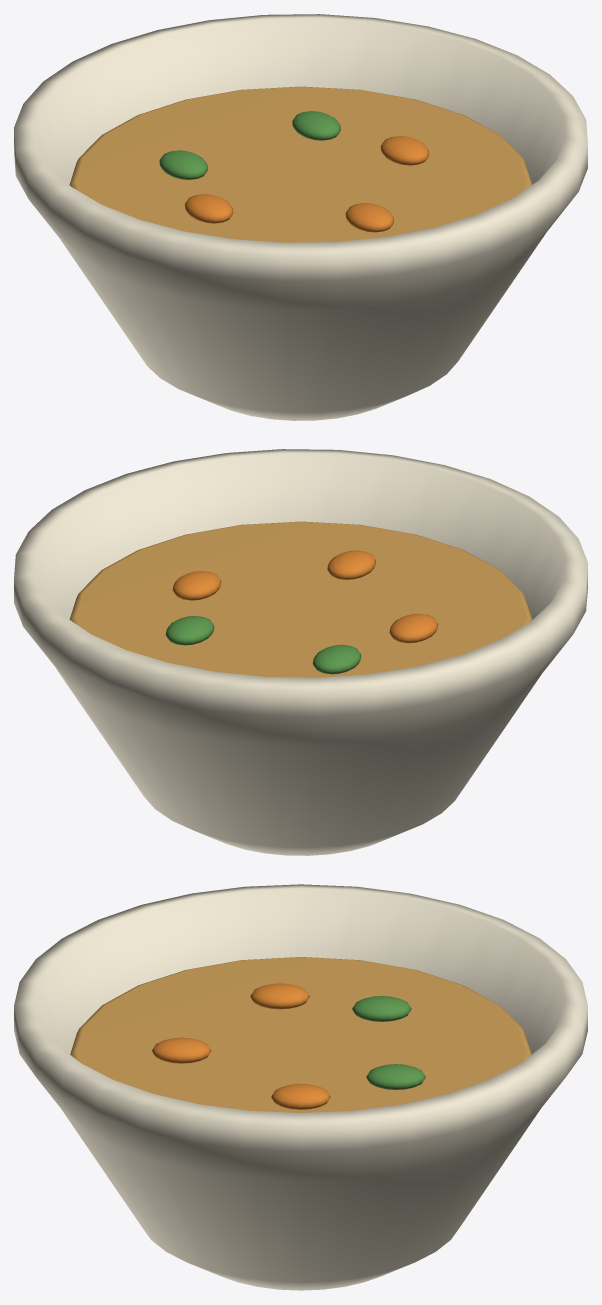
Rendered from HotelTogether-SoupBowl.glb.
3 views of the same model, one above another, from view 1: azimuth 30°, elevation 25°; view 2: azimuth 150°, elevation 25°; view 3: azimuth 270°, elevation 25° (orthographic).
Parts seen in each view (by area): view 1: Bowl_Ceramic, Bowl_Soup, Bowl_Garnish.003, Bowl_Garnish.001, Bowl_Garnish, Bowl_Garnish.002, Bowl_Garnish.004; view 2: Bowl_Ceramic, Bowl_Soup, Bowl_Garnish.002, Bowl_Garnish.004, Bowl_Garnish, Bowl_Garnish.001, Bowl_Garnish.003; view 3: Bowl_Ceramic, Bowl_Soup, Bowl_Garnish.004, Bowl_Garnish.002, Bowl_Garnish.001, Bowl_Garnish, Bowl_Garnish.003.
Part boxes in pixels (x1,y1,x2,y2): Bowl_Ceramic: (14, 14, 587, 420); Bowl_Soup: (69, 86, 532, 242); Bowl_Garnish.003: (292, 111, 340, 140); Bowl_Garnish.001: (159, 150, 207, 179); Bowl_Garnish: (380, 136, 429, 165); Bowl_Garnish.002: (345, 203, 394, 232); Bowl_Garnish.004: (184, 194, 233, 223); Bowl_Ceramic: (14, 449, 587, 855); Bowl_Soup: (69, 521, 532, 677); Bowl_Garnish.002: (327, 550, 375, 579); Bowl_Garnish.004: (389, 613, 438, 643); Bowl_Garnish: (172, 571, 221, 600); Bowl_Garnish.001: (312, 644, 361, 674); Bowl_Garnish.003: (165, 615, 214, 645); Bowl_Ceramic: (14, 884, 587, 1290); Bowl_Soup: (70, 957, 531, 1112); Bowl_Garnish.004: (250, 983, 309, 1009); Bowl_Garnish.002: (152, 1037, 211, 1063); Bowl_Garnish.001: (352, 996, 411, 1021); Bowl_Garnish: (271, 1084, 330, 1109); Bowl_Garnish.003: (366, 1064, 425, 1089).
Bounding box in the file's own units: 0.23 × 0.107 × 0.23.
